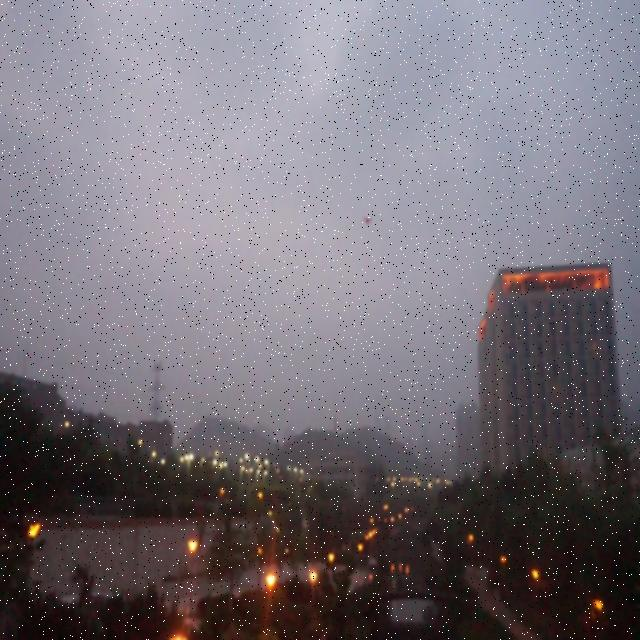UAV: (363, 217, 372, 226)
